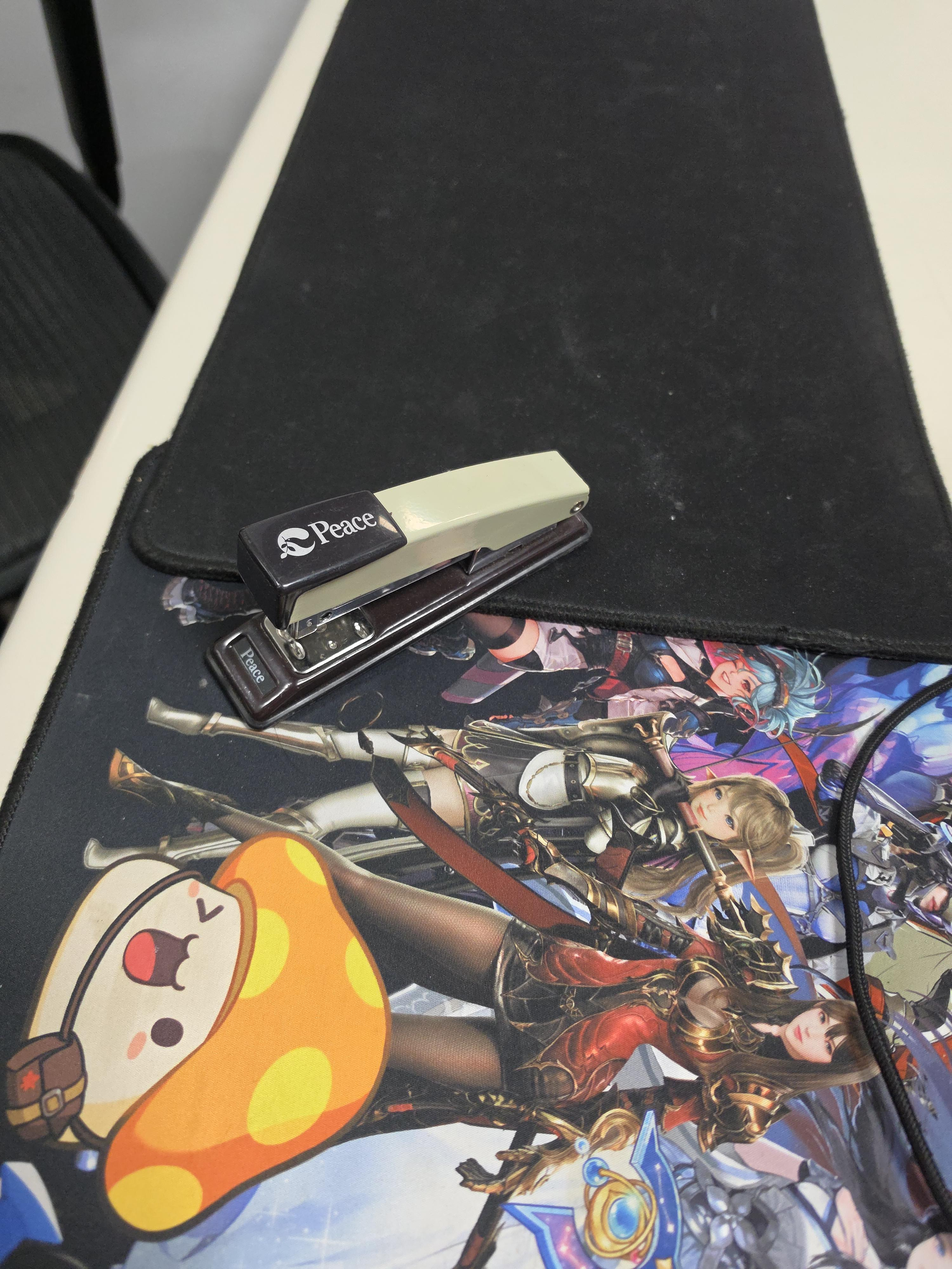stapler: (203, 450, 593, 729)
